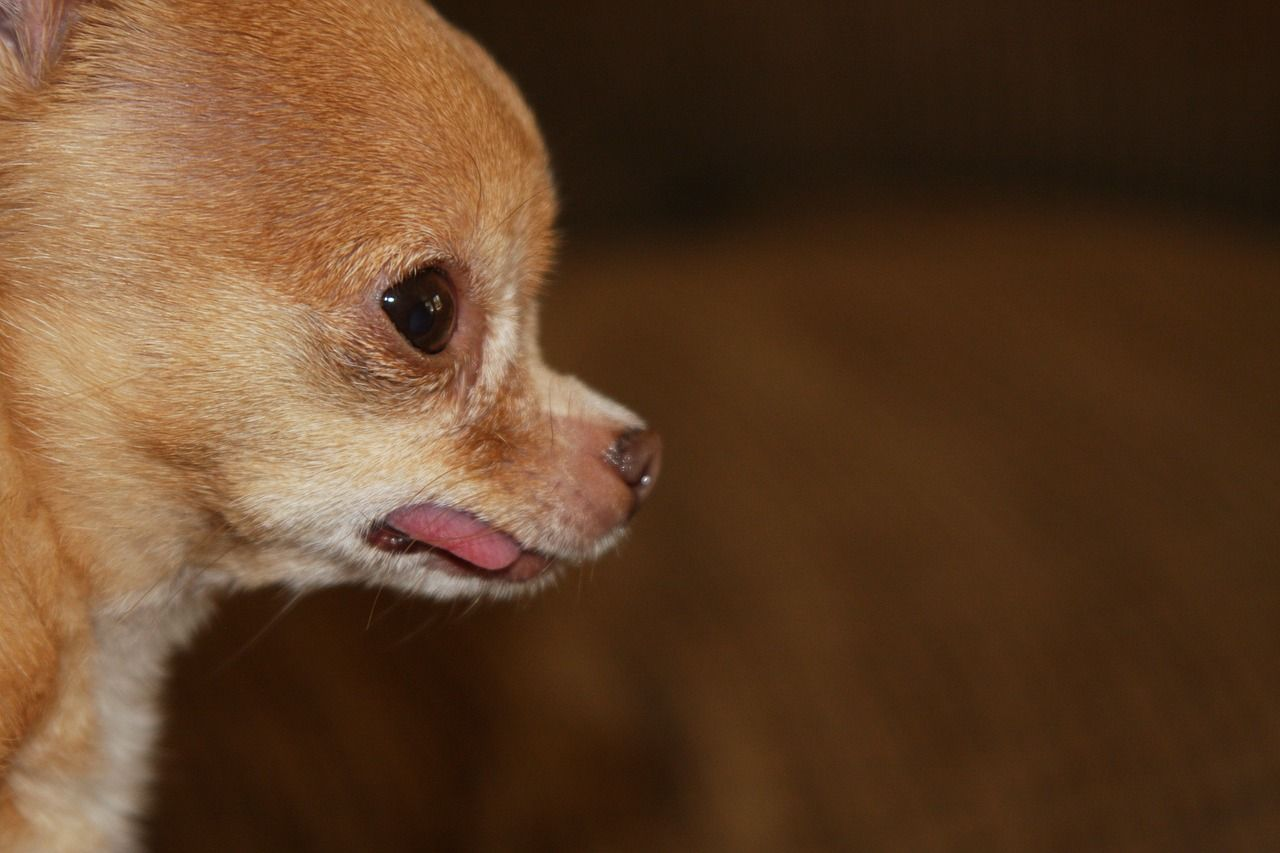chihuahua: (1, 1, 674, 744)
